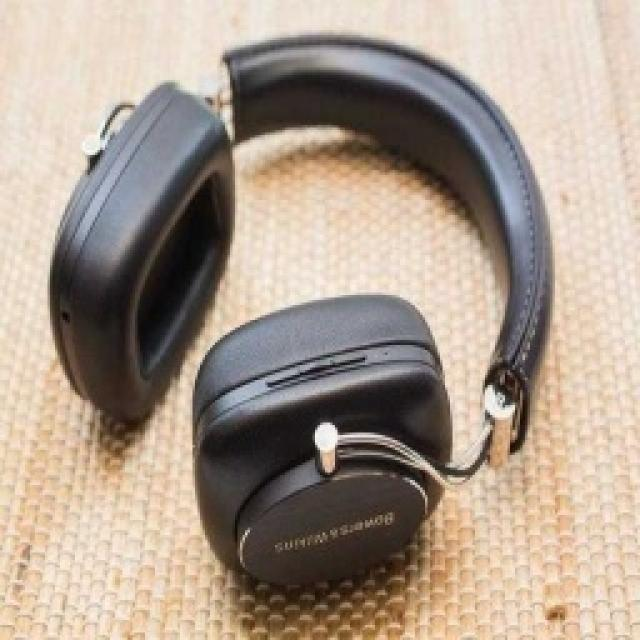headphones: (45, 30, 553, 590)
